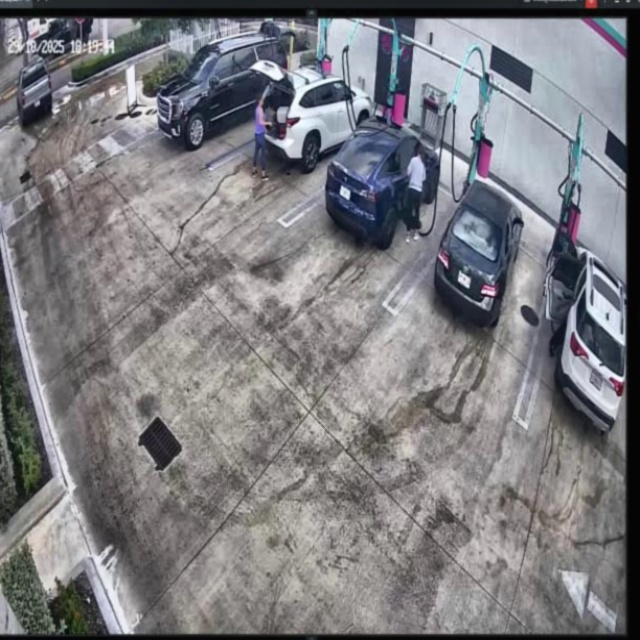Car: (328, 114, 440, 245), (255, 57, 373, 172), (434, 179, 524, 328)
